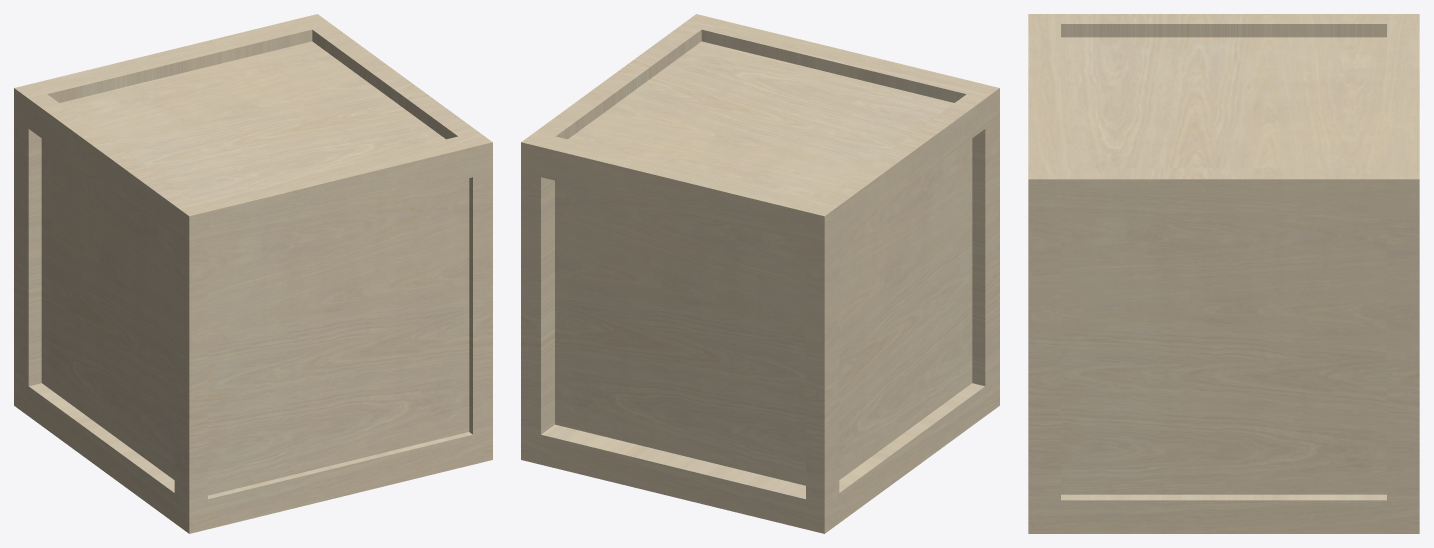
3 renders of one model, left to right at view 1: azimuth 30°, elevation 25°; view 2: azimuth 150°, elevation 25°; view 3: azimuth 270°, elevation 25°, orthographic. The views are drawn at different scales.
Parts seen in each view (by area): view 1: box-rigid; view 2: box-rigid; view 3: box-rigid.
Boxes of the visible parts, box(x1,y1,x2,y2) form: box-rigid: box(14, 14, 492, 533); box-rigid: box(521, 14, 999, 533); box-rigid: box(1028, 14, 1419, 533).
Size of the model in its own units: 1.7 by 1.7 by 1.7.
Materials: 1 (1 with a texture image).
